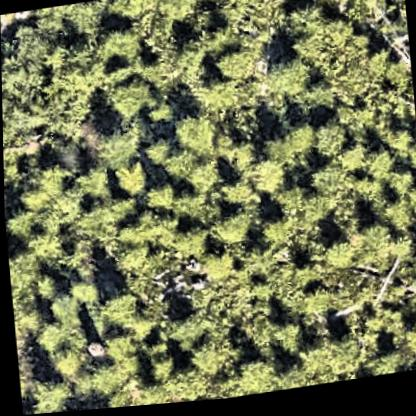tree-top: (308, 332, 362, 389), (257, 55, 311, 107), (11, 165, 63, 215), (103, 73, 153, 123), (160, 311, 209, 360), (277, 0, 326, 49), (170, 114, 220, 162), (92, 125, 140, 175), (74, 354, 122, 404), (95, 26, 144, 74), (181, 337, 228, 385), (93, 289, 140, 336), (192, 79, 239, 124), (348, 223, 392, 270), (210, 44, 256, 88), (129, 128, 173, 174), (316, 235, 360, 281), (292, 82, 336, 128), (70, 198, 114, 244), (23, 372, 70, 415), (230, 357, 275, 401), (205, 209, 248, 255), (23, 225, 65, 271), (308, 123, 350, 168), (109, 159, 149, 202), (69, 165, 110, 206), (291, 285, 332, 326), (168, 225, 209, 265), (245, 161, 284, 200), (255, 214, 293, 254), (341, 147, 382, 184), (195, 249, 234, 287), (304, 165, 342, 204), (182, 157, 220, 195), (215, 178, 254, 215), (106, 0, 156, 28), (140, 180, 176, 217), (266, 324, 301, 362), (267, 365, 308, 396), (48, 293, 81, 331), (163, 151, 197, 186), (154, 0, 195, 29), (34, 319, 67, 355), (4, 207, 36, 244), (362, 353, 400, 383), (143, 356, 176, 390), (174, 34, 205, 70), (381, 132, 415, 164), (383, 172, 416, 204), (29, 271, 59, 305), (395, 323, 416, 371), (140, 139, 171, 171), (205, 21, 234, 54), (145, 99, 176, 127), (402, 253, 416, 300), (358, 0, 403, 5), (287, 0, 332, 2)
